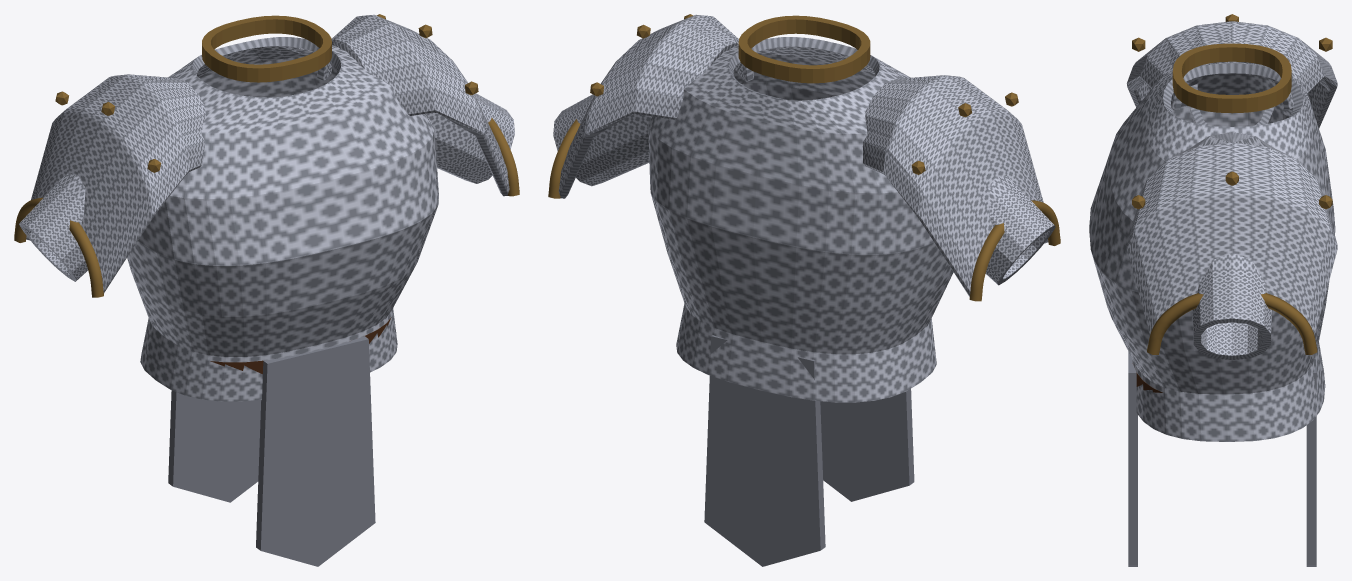
Rendered from ring_mail.obj.
3 renders of one model, left to right at view 1: azimuth 30°, elevation 25°; view 2: azimuth 150°, elevation 25°; view 3: azimuth 270°, elevation 25°, orthographic.
Visible parts, largest first — view 1: A_Torso.001_ring_mail_body, K_DrapedMailShoulder.001_ring_mail_body, D_TabardFront.001_ring_mail_tabard, D_TabardBack.001_ring_mail_tabard, F_Sleeve.001_ring_mail_body, B_NeckTrim.001_ring_mail_trim, K_WeightedCuff.001_ring_mail_trim; view 2: A_Torso.001_ring_mail_body, K_DrapedMailShoulder.001_ring_mail_body, D_TabardBack.001_ring_mail_tabard, F_Sleeve.001_ring_mail_body, D_TabardFront.001_ring_mail_tabard, B_NeckTrim.001_ring_mail_trim, K_WeightedCuff.001_ring_mail_trim; view 3: A_Torso.001_ring_mail_body, K_DrapedMailShoulder.001_ring_mail_body, F_Sleeve.001_ring_mail_body, B_NeckTrim.001_ring_mail_trim, K_WeightedCuff.001_ring_mail_trim, D_TabardFront.001_ring_mail_tabard, D_TabardBack.001_ring_mail_tabard, K_Rivet2.001_ring_mail_trim, K_Rivet0.001_ring_mail_trim.
Part boxes in pixels (box(x1,y1,x2,y2)): A_Torso.001_ring_mail_body: box(127, 37, 438, 401); K_DrapedMailShoulder.001_ring_mail_body: box(26, 14, 509, 293); D_TabardFront.001_ring_mail_tabard: box(256, 336, 375, 566); D_TabardBack.001_ring_mail_tabard: box(168, 390, 261, 502); F_Sleeve.001_ring_mail_body: box(19, 93, 514, 281); B_NeckTrim.001_ring_mail_trim: box(202, 15, 331, 82); K_WeightedCuff.001_ring_mail_trim: box(14, 118, 519, 297); A_Torso.001_ring_mail_body: box(648, 37, 953, 402); K_DrapedMailShoulder.001_ring_mail_body: box(558, 14, 1048, 296); D_TabardBack.001_ring_mail_tabard: box(704, 335, 825, 566); F_Sleeve.001_ring_mail_body: box(553, 94, 1055, 285); D_TabardFront.001_ring_mail_tabard: box(820, 389, 914, 501); B_NeckTrim.001_ring_mail_trim: box(738, 15, 870, 83); K_WeightedCuff.001_ring_mail_trim: box(548, 119, 1060, 301); A_Torso.001_ring_mail_body: box(1089, 61, 1335, 441); K_DrapedMailShoulder.001_ring_mail_body: box(1126, 21, 1337, 335); F_Sleeve.001_ring_mail_body: box(1189, 83, 1274, 360); B_NeckTrim.001_ring_mail_trim: box(1172, 43, 1291, 113); K_WeightedCuff.001_ring_mail_trim: box(1147, 293, 1317, 354); D_TabardFront.001_ring_mail_tabard: box(1128, 351, 1137, 566); D_TabardBack.001_ring_mail_tabard: box(1306, 365, 1316, 566); K_Rivet2.001_ring_mail_trim: box(1319, 37, 1332, 209); K_Rivet0.001_ring_mail_trim: box(1132, 37, 1145, 209).
Bounding box in the file's own units: 2.84 × 2.76 × 1.25.
Materials: 4 (1 with a texture image).
